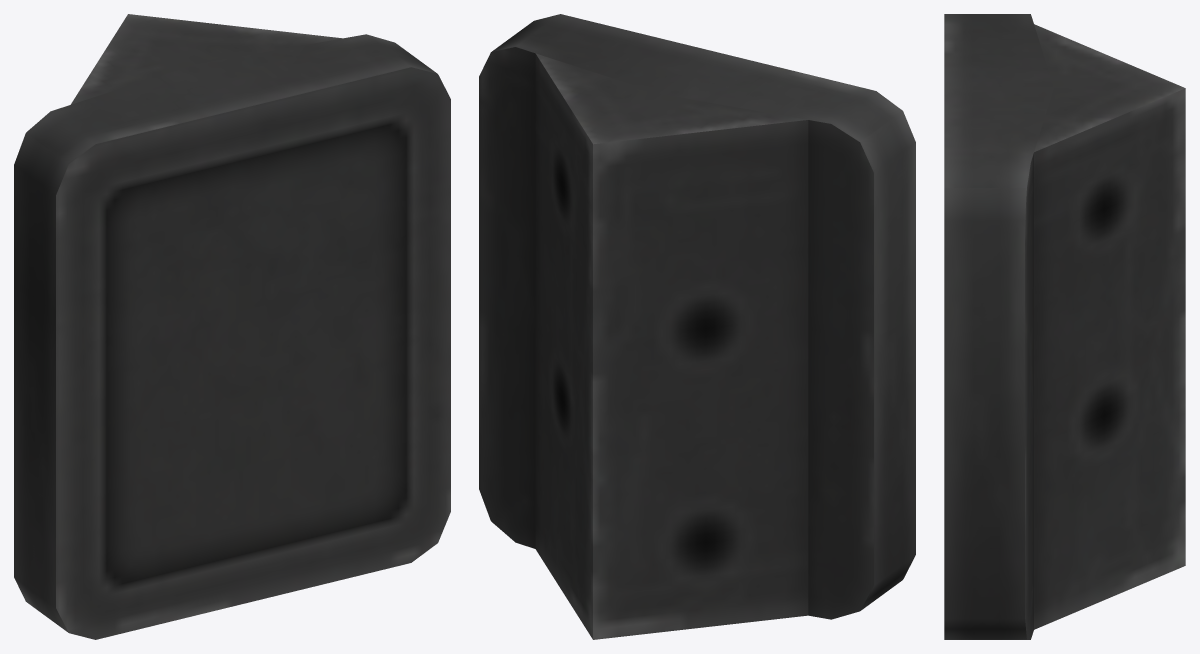
The model's file is eridani_rcs_roll_1.obj.
3 views of the same model, side by side, from view 1: azimuth 30°, elevation 25°; view 2: azimuth 150°, elevation 25°; view 3: azimuth 270°, elevation 25° (orthographic). The views are drawn at different scales.
Visible parts, largest first — view 1: mesh1; view 2: mesh1; view 3: mesh1.
Part boxes in pixels (box(x1,y1,x2,y2)): mesh1: box(14, 14, 450, 639); mesh1: box(479, 14, 915, 639); mesh1: box(944, 14, 1185, 639).
Size of the model in its own units: 0.25 by 0.3 by 0.1375.
Materials: 1 (1 with a texture image).
